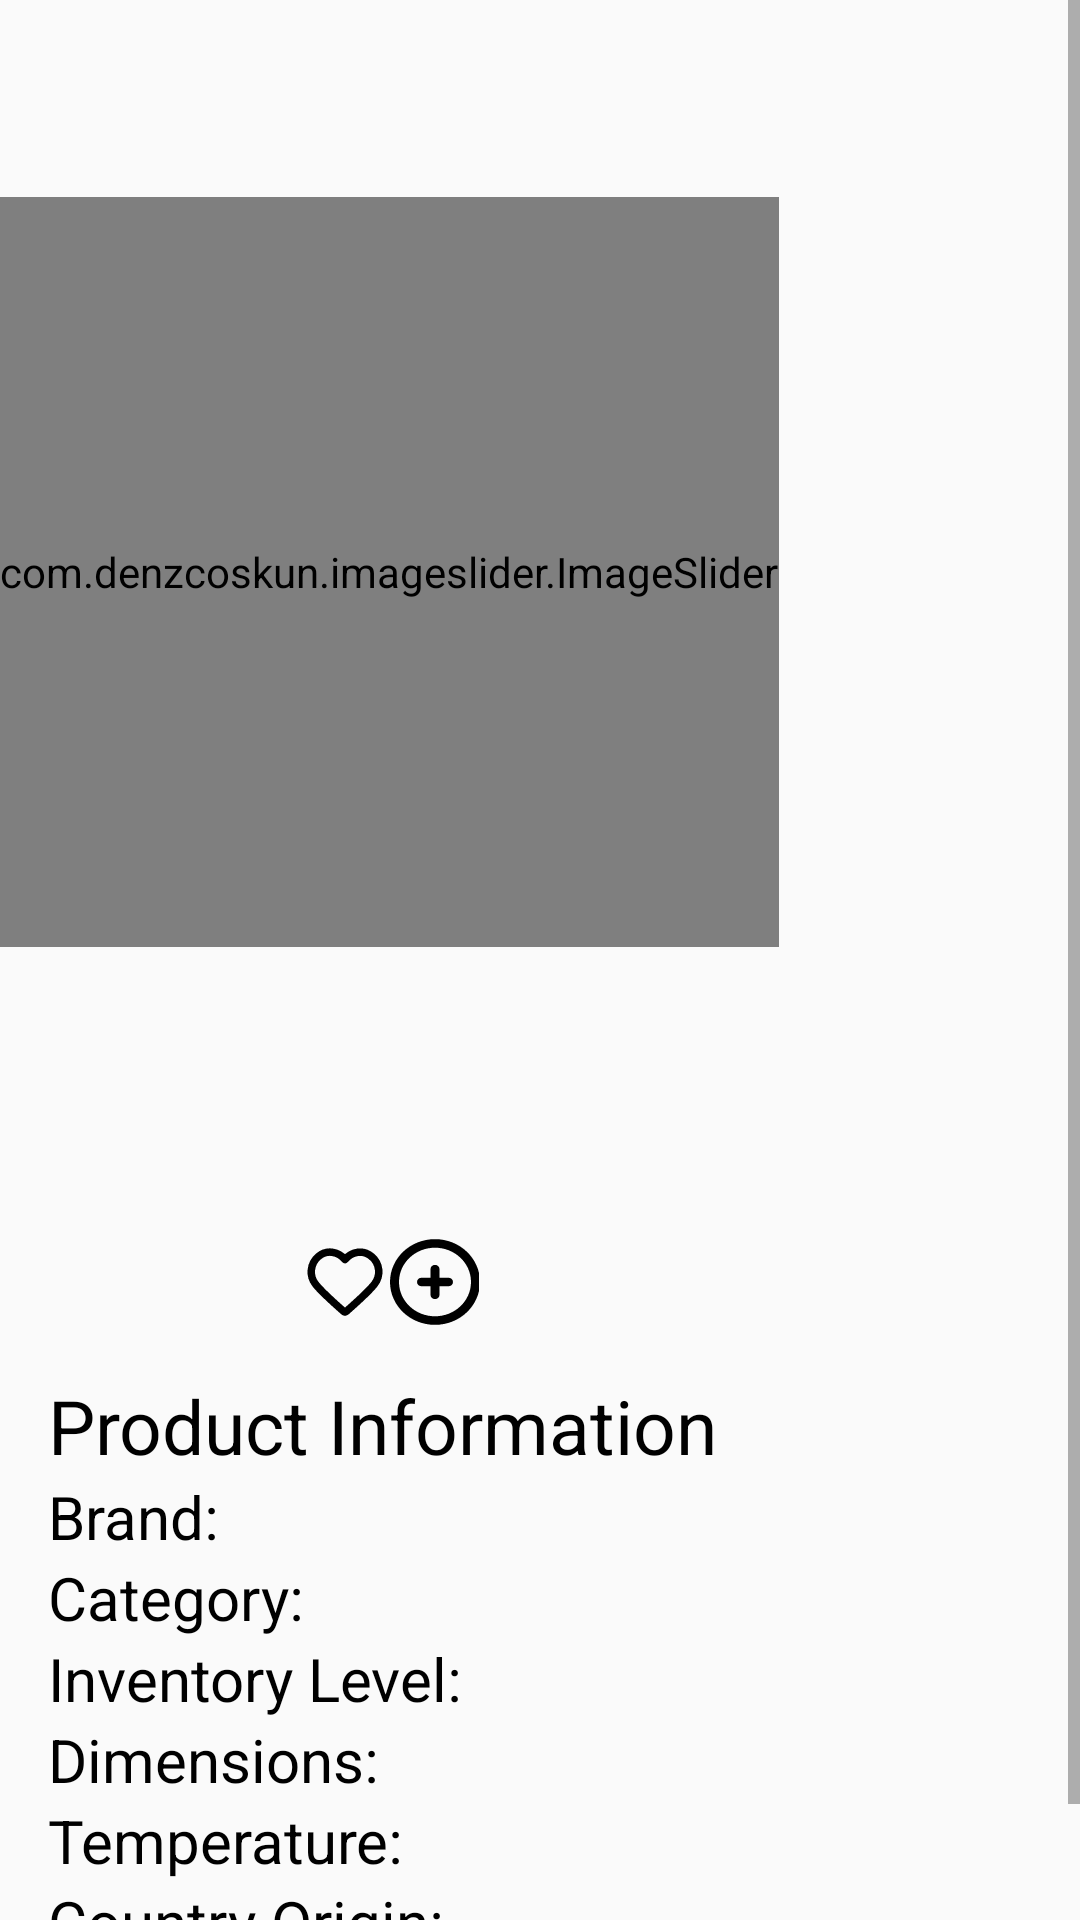

Screen size 1080w x 1920h. Icon name, then its center in pixels as point (x, y):
add: point (434, 1282)
Toggle Favorites: point (345, 1282)
